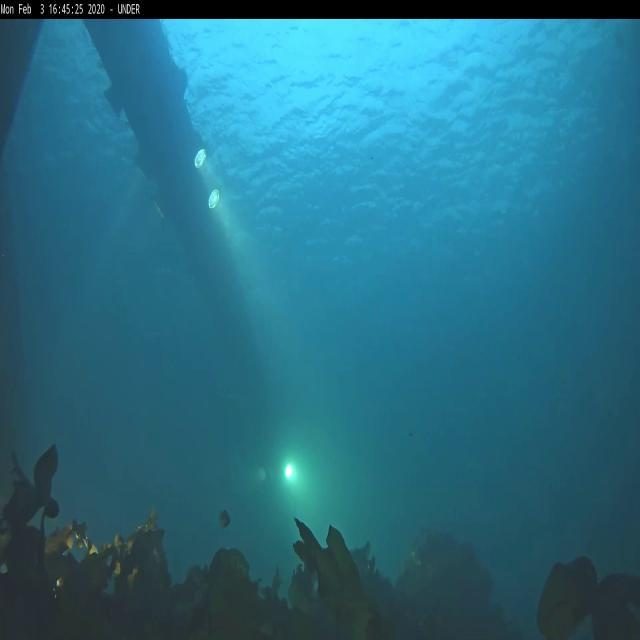fish: (218, 509, 233, 526)
